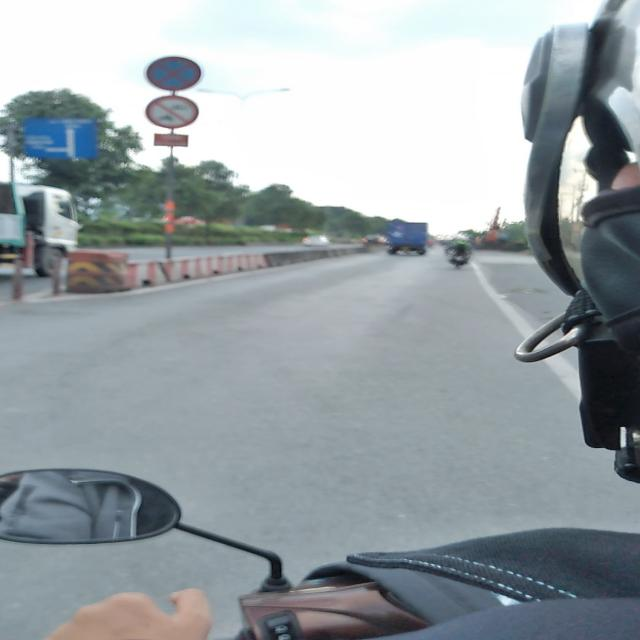Cam con lai: (142, 94, 204, 130)
Cam dung va do: (146, 56, 201, 92)
